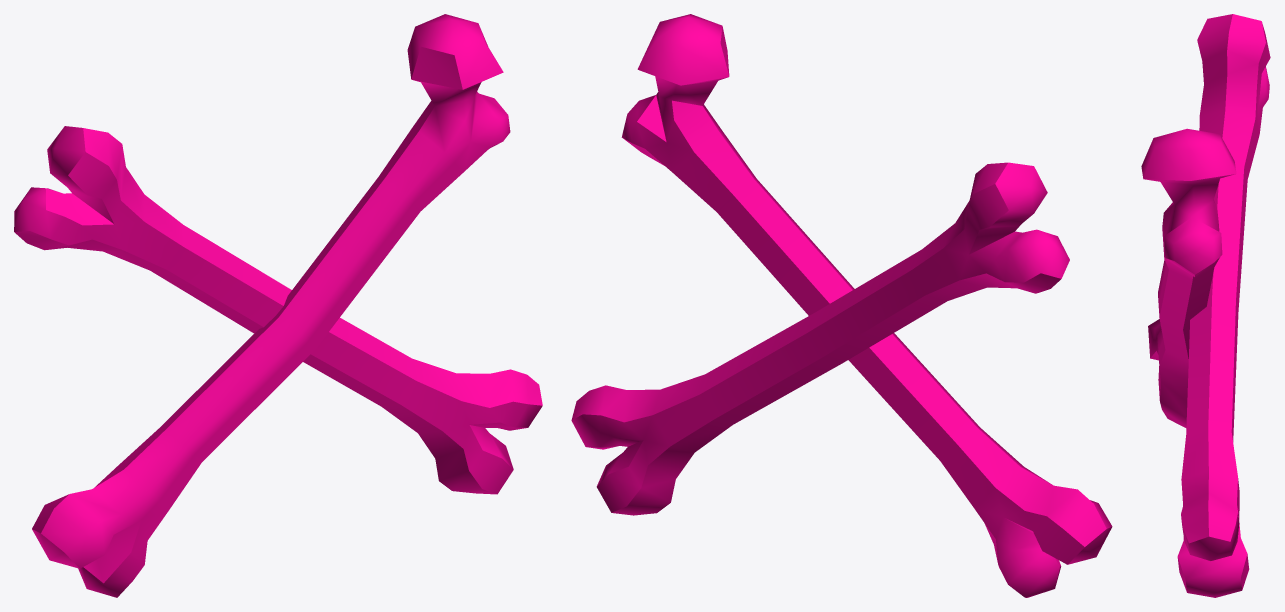
The model's file is 02bounes.FBX.
3 renders of one model, left to right at view 1: azimuth 30°, elevation 25°; view 2: azimuth 150°, elevation 25°; view 3: azimuth 270°, elevation 25°, orthographic. The views are drawn at different scales.
Parts seen in each view (by area): view 1: SM_Icon_Bones_01; view 2: SM_Icon_Bones_01; view 3: SM_Icon_Bones_01.
Part boxes in pixels (x1,y1,x2,y2): SM_Icon_Bones_01: [14, 14, 542, 597]; SM_Icon_Bones_01: [571, 14, 1112, 597]; SM_Icon_Bones_01: [1141, 14, 1270, 597].
Size of the model in its own units: 64.89 by 59.76 by 15.47.
